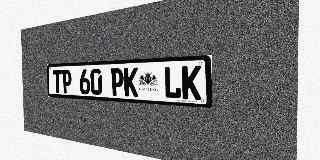0: (90, 69, 102, 95)
6: (79, 69, 90, 94)
K: (182, 65, 201, 100), (124, 67, 138, 97)
L: (164, 66, 181, 99)
P: (110, 68, 124, 96), (62, 70, 72, 94)
T: (53, 70, 62, 93)
